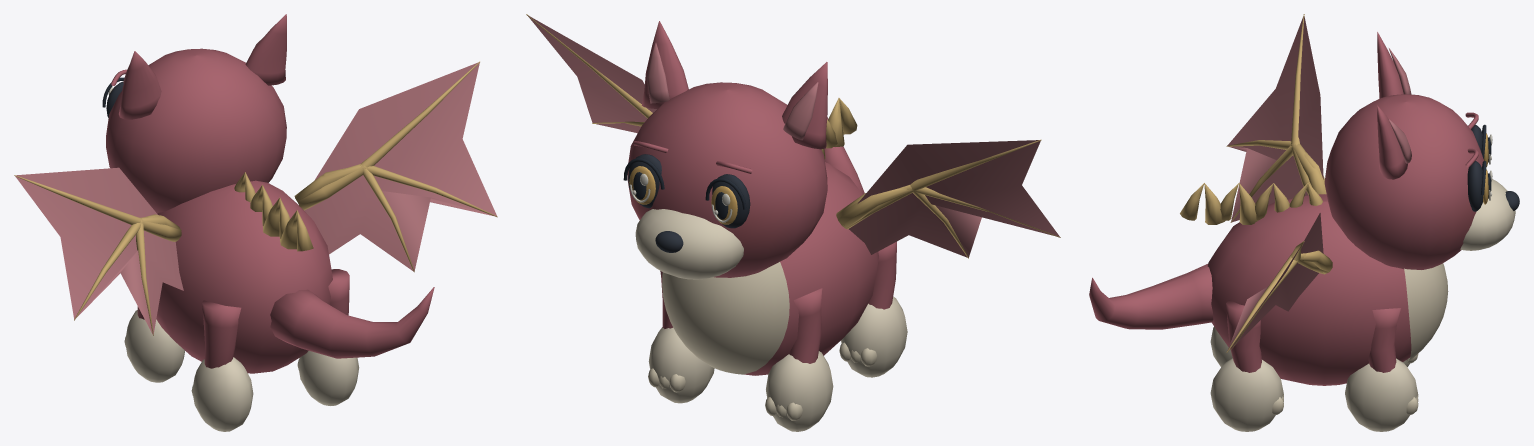
The model's file is pet-dragon.glb.
3 views of the same model, side by side, from view 1: azimuth 30°, elevation 25°; view 2: azimuth 150°, elevation 25°; view 3: azimuth 270°, elevation 25° (orthographic). The views are drawn at different scales.
Visible parts, largest first — view 1: limbR_Painted pet.001, body_Painted pet.001, petHead_Painted pet.001, limbL_Painted pet.001, tail_Painted pet.001, legLB_Painted pet.001, legRB_Painted pet.001, legLF_Painted pet.001, earL_Painted pet.001, earR_Painted pet.001; view 2: petHead_Painted pet.001, body_Painted pet.001, limbL_Painted pet.001, legLF_Painted pet.001, limbR_Painted pet.001, legLB_Painted pet.001, legRF_Painted pet.001, petEyes_Painted pet.001, earL_Painted pet.001, earR_Painted pet.001, tail_Painted pet.001; view 3: body_Painted pet.001, petHead_Painted pet.001, limbL_Painted pet.001, legRB_Painted pet.001, legRF_Painted pet.001, tail_Painted pet.001, limbR_Painted pet.001, earR_Painted pet.001, petEyes_Painted pet.001, earL_Painted pet.001, legLB_Painted pet.001.
Part boxes in pixels (<box>): limbR_Painted pet.001: <box>294,61,497,272</box>; body_Painted pet.001: <box>156,172,332,373</box>; petHead_Painted pet.001: <box>106,48,286,213</box>; limbL_Painted pet.001: <box>14,167,183,335</box>; tail_Painted pet.001: <box>270,287,434,358</box>; legLB_Painted pet.001: <box>191,300,253,431</box>; legRB_Painted pet.001: <box>297,269,359,405</box>; legLF_Painted pet.001: <box>124,306,184,382</box>; earL_Painted pet.001: <box>119,51,161,119</box>; earR_Painted pet.001: <box>245,14,286,85</box>; petHead_Painted pet.001: <box>627,82,827,279</box>; body_Painted pet.001: <box>662,98,878,375</box>; limbL_Painted pet.001: <box>836,139,1060,258</box>; legLF_Painted pet.001: <box>765,288,833,431</box>; limbR_Painted pet.001: <box>526,14,656,133</box>; legLB_Painted pet.001: <box>839,241,907,377</box>; legRF_Painted pet.001: <box>648,271,714,403</box>; petEyes_Painted pet.001: <box>623,154,750,228</box>; earL_Painted pet.001: <box>782,62,827,149</box>; earR_Painted pet.001: <box>641,21,688,108</box>; tail_Painted pet.001: <box>824,117,864,194</box>; body_Painted pet.001: <box>1180,183,1448,385</box>; petHead_Painted pet.001: <box>1324,94,1519,269</box>; limbL_Painted pet.001: <box>1226,14,1326,222</box>; legRB_Painted pet.001: <box>1210,300,1283,431</box>; legRF_Painted pet.001: <box>1345,308,1418,431</box>; tail_Painted pet.001: <box>1089,264,1213,329</box>; limbR_Painted pet.001: <box>1226,213,1332,352</box>; earR_Painted pet.001: <box>1377,105,1411,179</box>; petEyes_Painted pet.001: <box>1467,124,1492,211</box>; earL_Painted pet.001: <box>1377,32,1411,98</box>; legLB_Painted pet.001: <box>1210,326,1232,366</box>.
Size of the model in its own units: 1.32 by 0.9103 by 1.06.
